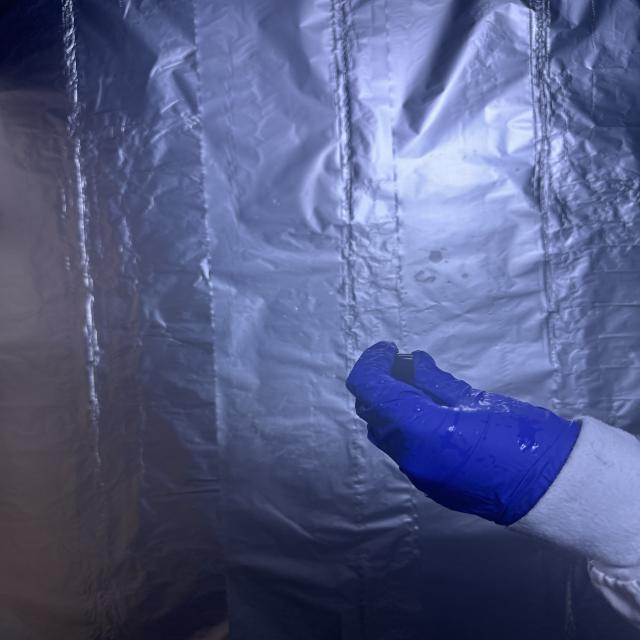gloves_contaminated: (346, 342, 581, 525)
